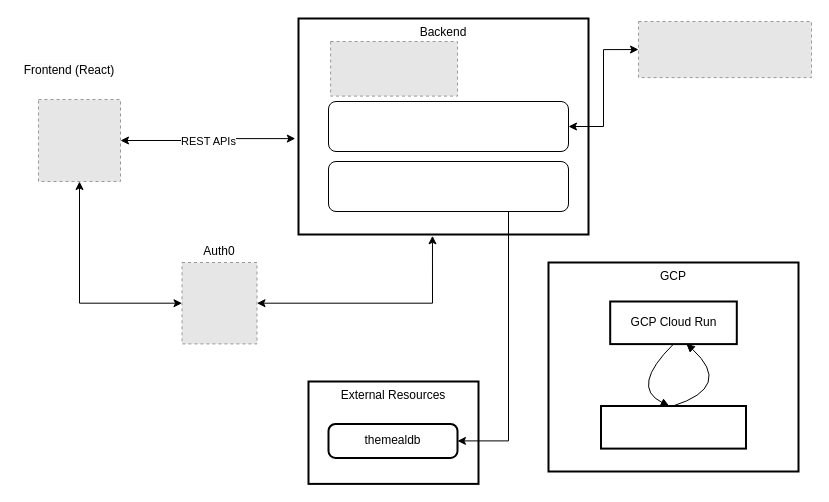
This 829x502 diagram has some shape labels left out. Grey dashed boxes stand in for pictures. The box of each missing label's shape, as (x1, y1, x2, y2) in pixels:
FastAPI Docker Image: (600, 404, 746, 449)
GET /api/v1/recipe_ideas/mealdb: (328, 160, 568, 212)
POST /api/v1/predict POST /api/v1/predict/upload: (328, 100, 568, 152)
